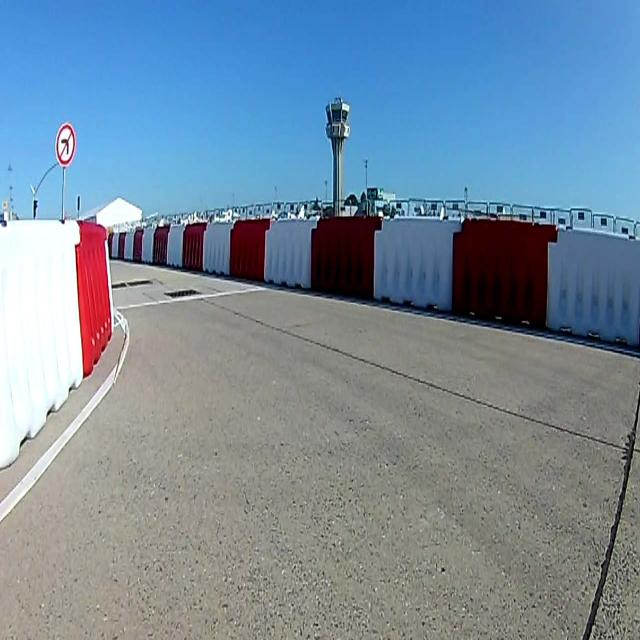soladonulmez: (56, 124, 76, 164)
